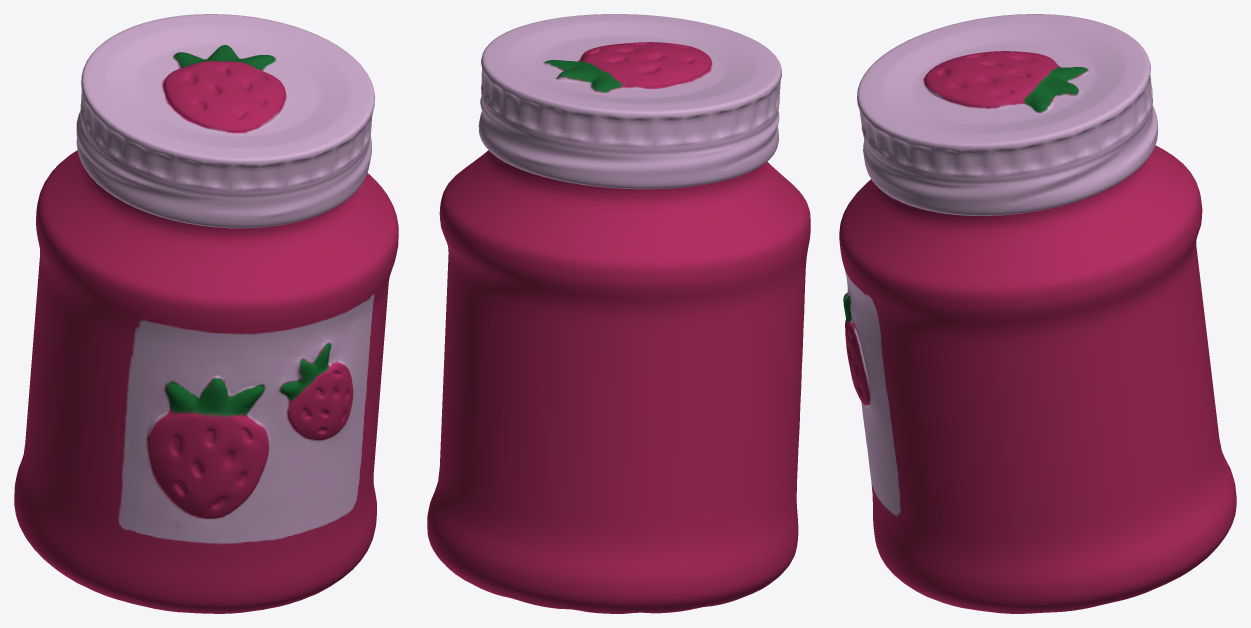
File: jam.fbx
3 renders of one model, left to right at view 1: azimuth 30°, elevation 25°; view 2: azimuth 150°, elevation 25°; view 3: azimuth 270°, elevation 25°, orthographic. The views are drawn at different scales.
Parts seen in each view (by area): view 1: node_id5; view 2: node_id5; view 3: node_id5.
Part boxes in pixels (<box>): node_id5: <box>14,14,398,613</box>; node_id5: <box>427,14,810,613</box>; node_id5: <box>839,14,1236,613</box>.
Bounding box in the file's own units: 0.3599 × 0.532 × 0.3867.
Materials: 1 (1 with a texture image).
